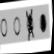correct: (38, 11, 47, 33)
not correct: (24, 6, 36, 41)
